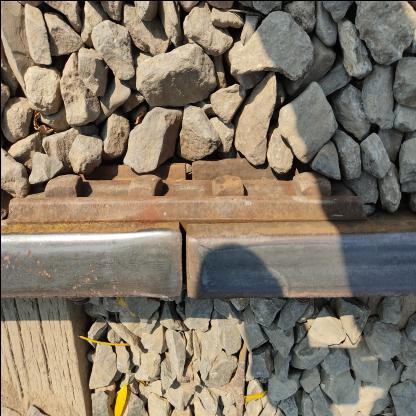Non Defective: (1, 120, 387, 271)
